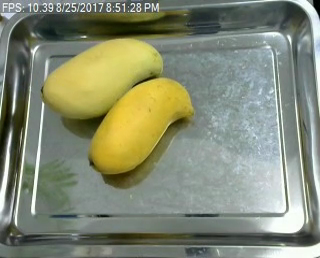Mango: (38, 34, 164, 125), (93, 75, 193, 174)
